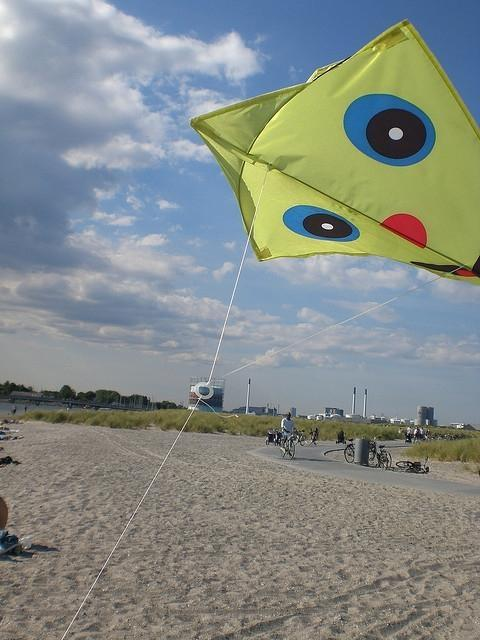bicycle: (366, 436, 392, 468), (396, 456, 430, 473), (285, 430, 297, 460), (344, 439, 356, 463), (294, 429, 306, 446)
